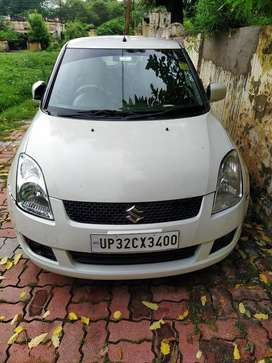UP32CX3400: (91, 231, 179, 252)
